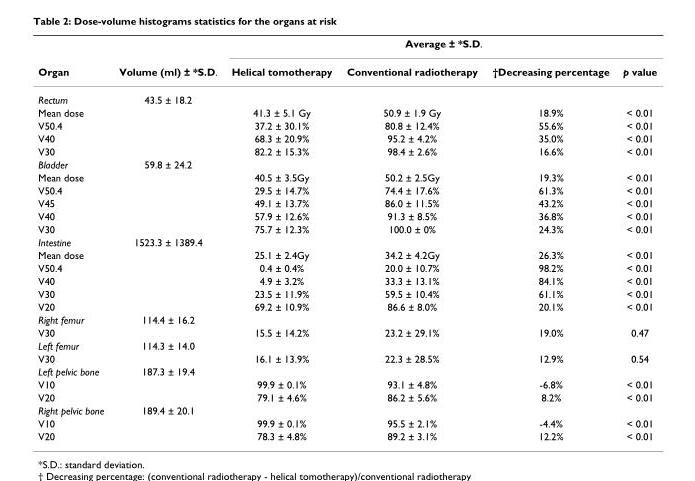table: (37, 36, 656, 441)
table column: (338, 36, 484, 441), (484, 36, 615, 441), (223, 36, 338, 441), (110, 36, 223, 441), (37, 36, 110, 441), (615, 36, 656, 441)
table column header: (37, 36, 656, 85)
table row: (37, 57, 656, 85), (37, 36, 656, 57), (37, 85, 656, 105), (37, 105, 656, 118), (37, 118, 656, 131), (37, 131, 656, 144), (37, 144, 656, 157), (37, 157, 656, 170), (37, 170, 656, 183), (37, 183, 656, 196), (37, 196, 656, 209), (37, 209, 656, 222), (37, 222, 656, 235), (37, 235, 656, 248), (37, 248, 656, 261), (37, 261, 656, 274), (37, 274, 656, 287), (37, 299, 656, 312), (37, 312, 656, 325), (37, 325, 656, 338), (37, 338, 656, 351), (37, 351, 656, 364), (37, 364, 656, 377), (37, 377, 656, 390), (37, 390, 656, 403), (37, 403, 656, 416), (37, 416, 656, 429), (37, 287, 656, 299), (37, 429, 656, 441)
table spanning cell: (223, 36, 656, 57), (110, 36, 223, 85), (37, 36, 110, 85)
